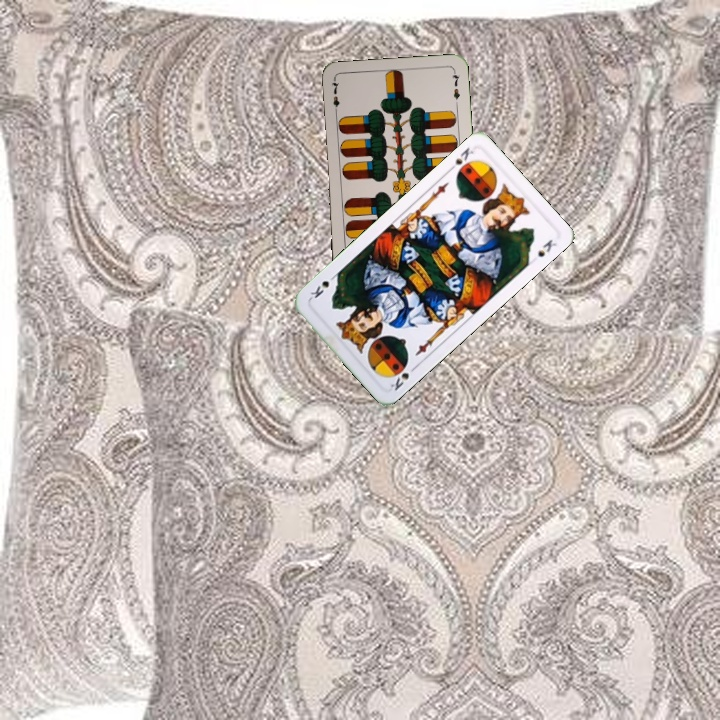E7: (327, 77, 342, 117)
SK: (386, 361, 420, 393), (444, 143, 476, 175)
